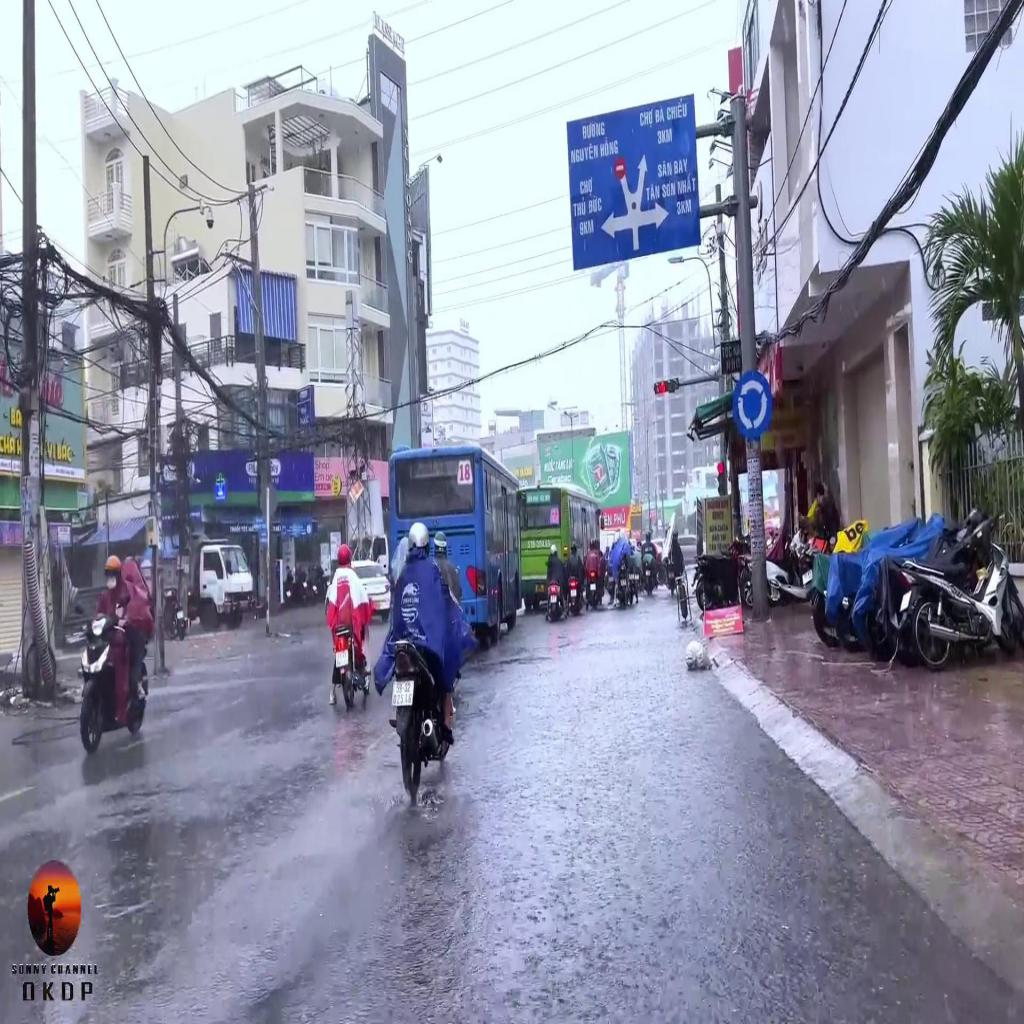khac: (566, 95, 701, 270)
noi_giao_nhau_chay_theo_vong: (733, 371, 772, 438)
